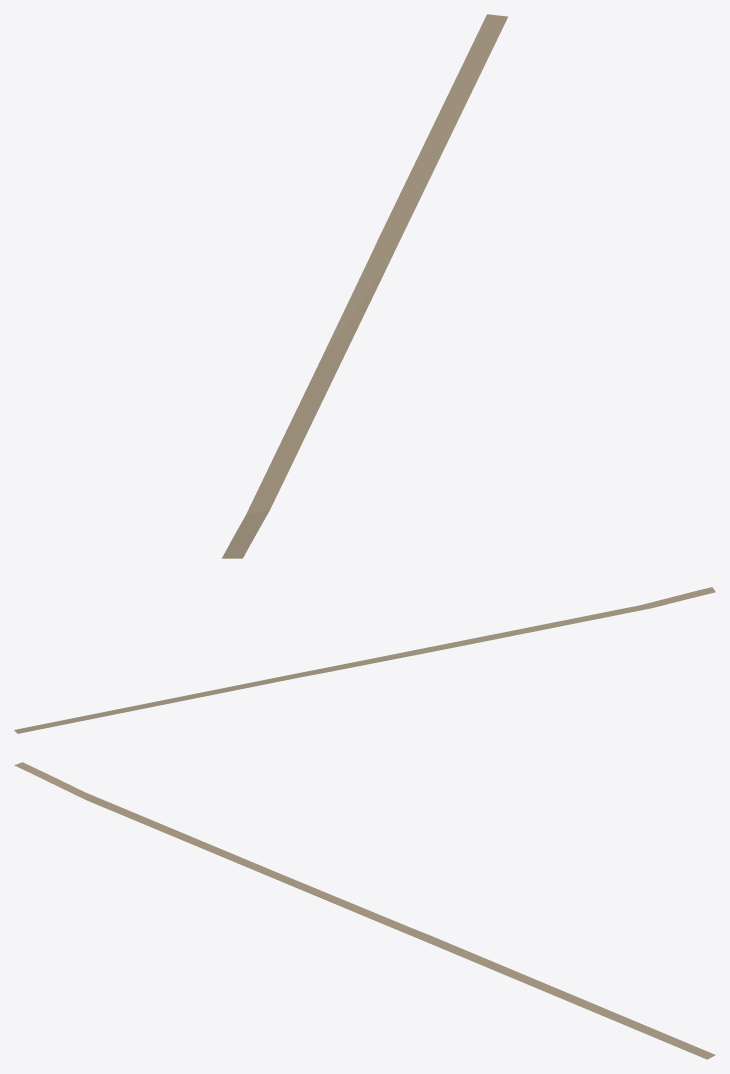
File: farm_-3_-9_track.glb
The picture shows the model from 3 angles, top to bottom: view 1: azimuth 30°, elevation 25°; view 2: azimuth 150°, elevation 25°; view 3: azimuth 270°, elevation 25°; orthographic projection. The views are drawn at different scales.
Visible parts, largest first — view 1: geometry_0; view 2: geometry_0; view 3: geometry_0.
Part boxes in pixels (<box>): geometry_0: <box>222,14,507,558</box>; geometry_0: <box>14,587,715,733</box>; geometry_0: <box>14,762,715,1059</box>.
Size of the model in its own units: 148 by 12.49 by 173.
